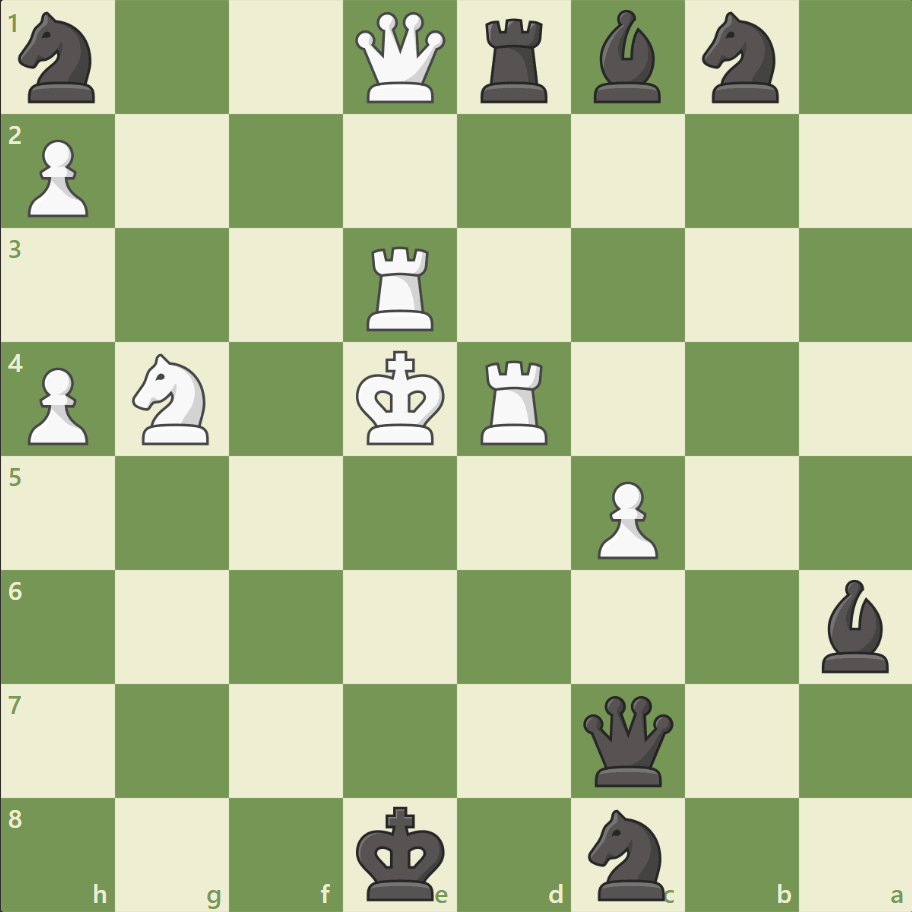K: (351, 344, 451, 452)
N: (124, 348, 222, 450)
P: (20, 359, 95, 450), (20, 132, 95, 223), (588, 473, 662, 564)
Q: (351, 9, 450, 108)
R: (473, 352, 556, 449), (360, 239, 442, 336)
b: (585, 6, 669, 109), (812, 574, 896, 676)
k: (351, 798, 451, 906)
n: (692, 7, 789, 110), (11, 7, 108, 110), (579, 802, 676, 904)
q: (578, 690, 677, 789)
r: (473, 12, 556, 109)
